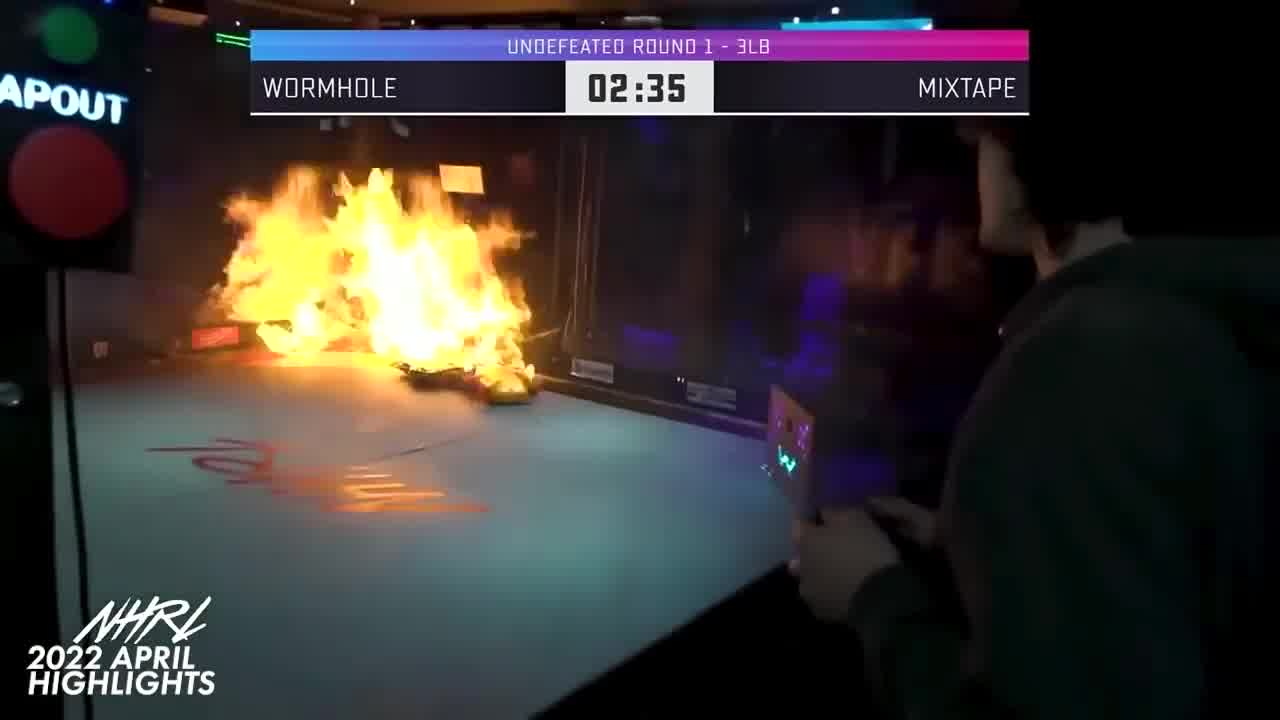combatbot: (470, 365, 543, 413), (393, 354, 467, 397)
